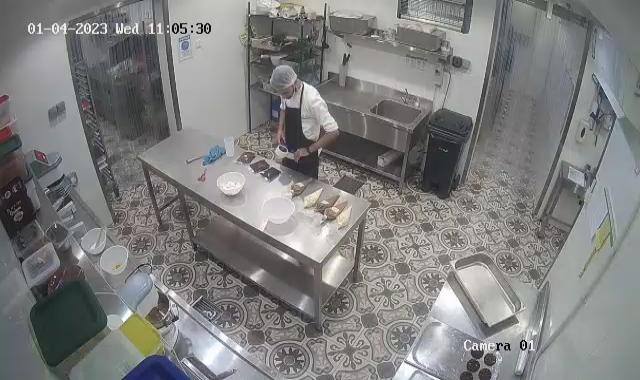hairnet: (270, 65, 299, 96)
